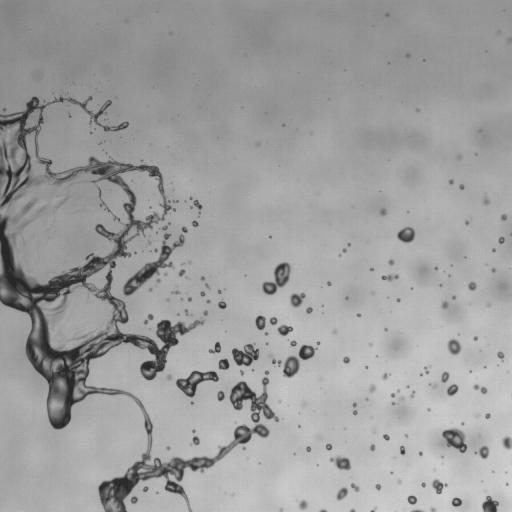droplet: (269, 344, 316, 377), (231, 343, 259, 366), (442, 427, 466, 453), (330, 455, 350, 470), (397, 227, 415, 243), (482, 495, 499, 511), (290, 292, 305, 307), (432, 478, 447, 493), (447, 339, 461, 355), (475, 446, 489, 459), (336, 486, 348, 500), (254, 315, 265, 330), (277, 324, 292, 335), (209, 342, 221, 354), (446, 384, 458, 396), (190, 200, 202, 211), (218, 358, 229, 369), (502, 436, 511, 449), (451, 497, 462, 506), (298, 499, 307, 510), (144, 314, 153, 324), (407, 495, 417, 504), (441, 371, 449, 382), (217, 300, 226, 309), (217, 391, 225, 401), (350, 483, 359, 491), (468, 282, 476, 290), (269, 317, 277, 325), (497, 351, 504, 360), (192, 436, 199, 445), (441, 301, 448, 309), (369, 384, 376, 392), (483, 196, 489, 205), (178, 269, 185, 276), (382, 373, 389, 380), (380, 208, 386, 215), (192, 220, 198, 227), (289, 340, 296, 346), (343, 356, 349, 363), (409, 391, 415, 398), (326, 443, 332, 450), (131, 496, 137, 503), (400, 446, 405, 454), (498, 237, 504, 243), (388, 259, 394, 265), (306, 307, 312, 313), (184, 309, 190, 315), (383, 434, 389, 440), (424, 366, 429, 373), (370, 444, 375, 451), (172, 290, 180, 294), (501, 214, 506, 220), (430, 383, 436, 388), (143, 486, 148, 492), (459, 184, 464, 189), (200, 291, 205, 296), (485, 413, 490, 418), (375, 484, 380, 489), (167, 374, 171, 380), (370, 507, 376, 511), (430, 507, 436, 511), (449, 179, 453, 184), (205, 284, 209, 289), (203, 310, 207, 315), (399, 396, 404, 400), (352, 402, 356, 407), (306, 446, 310, 451), (397, 479, 401, 484), (457, 155, 461, 159), (465, 220, 469, 224), (342, 248, 346, 252), (491, 268, 495, 272), (201, 276, 205, 280), (327, 281, 331, 285), (187, 297, 191, 301), (206, 299, 210, 303), (396, 298, 400, 302), (473, 336, 477, 340), (353, 410, 357, 414), (166, 446, 170, 450), (418, 451, 422, 455), (422, 482, 425, 487), (508, 37, 511, 41), (156, 279, 160, 282), (86, 298, 89, 302), (357, 313, 360, 317), (316, 341, 319, 345), (240, 371, 244, 374), (406, 54, 409, 57), (256, 142, 259, 145), (154, 249, 157, 252), (370, 268, 373, 271), (218, 290, 221, 293), (333, 330, 336, 333), (347, 243, 351, 245), (149, 287, 151, 291), (174, 200, 177, 202), (492, 249, 495, 251), (338, 254, 341, 256), (188, 261, 191, 263), (164, 272, 166, 275), (345, 297, 348, 299), (452, 296, 455, 298), (265, 332, 267, 335), (391, 402, 394, 404), (192, 430, 195, 432), (405, 434, 407, 437), (279, 509, 282, 511), (386, 14, 388, 16), (70, 183, 72, 185), (148, 241, 150, 243), (435, 267, 437, 269), (180, 298, 182, 300), (366, 398, 368, 400), (278, 401, 280, 403), (476, 415, 478, 417), (373, 430, 375, 432), (390, 471, 392, 473)
ligament: (0, 100, 278, 511), (122, 224, 187, 295), (176, 370, 218, 397), (262, 262, 292, 295), (19, 207, 45, 231), (13, 198, 36, 223), (53, 196, 68, 212), (473, 384, 487, 394), (381, 274, 398, 281), (390, 389, 400, 397), (97, 187, 101, 195), (411, 509, 424, 511), (319, 509, 327, 511), (349, 509, 355, 511)
